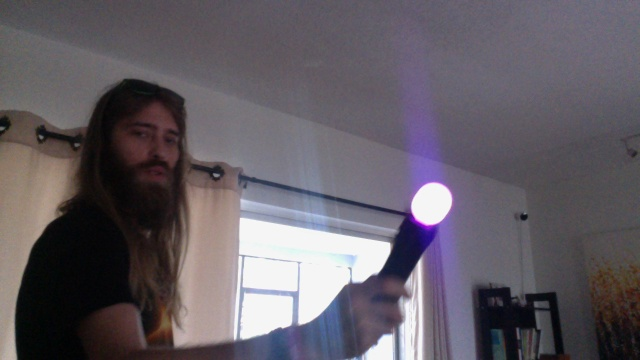wand: (412, 183, 452, 224)
